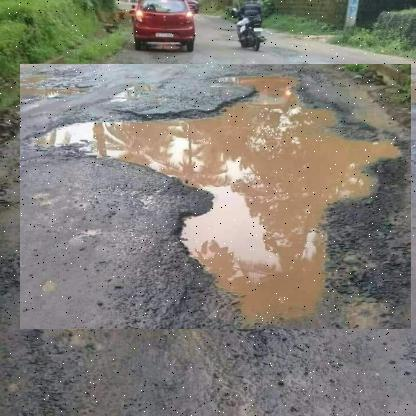pothole_water: (20, 64, 412, 330)
